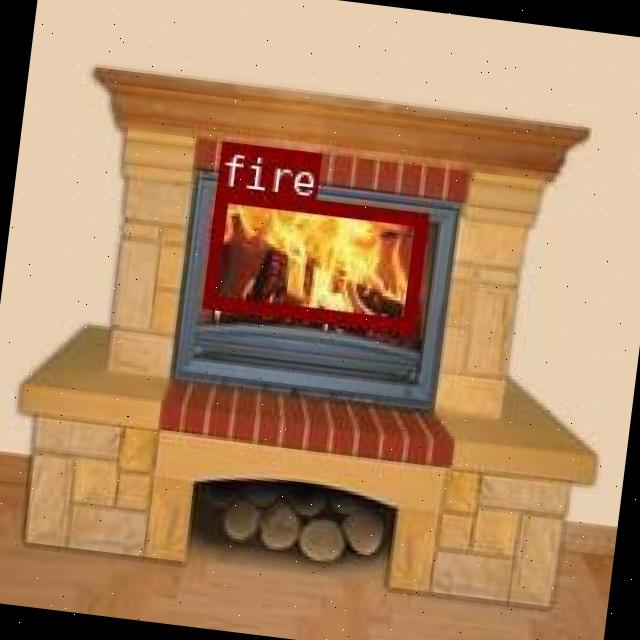fire: (200, 185, 426, 329)
